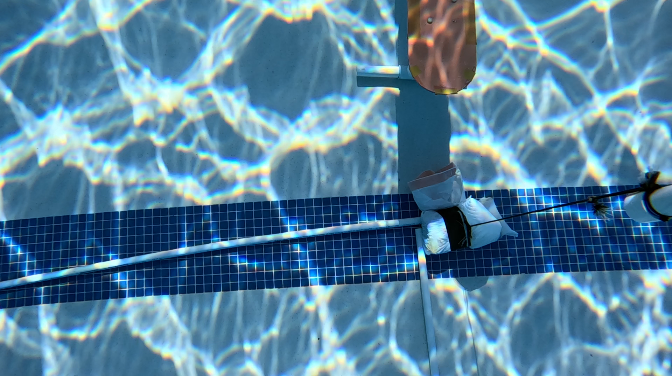pathmarker: (407, 0, 476, 94)
